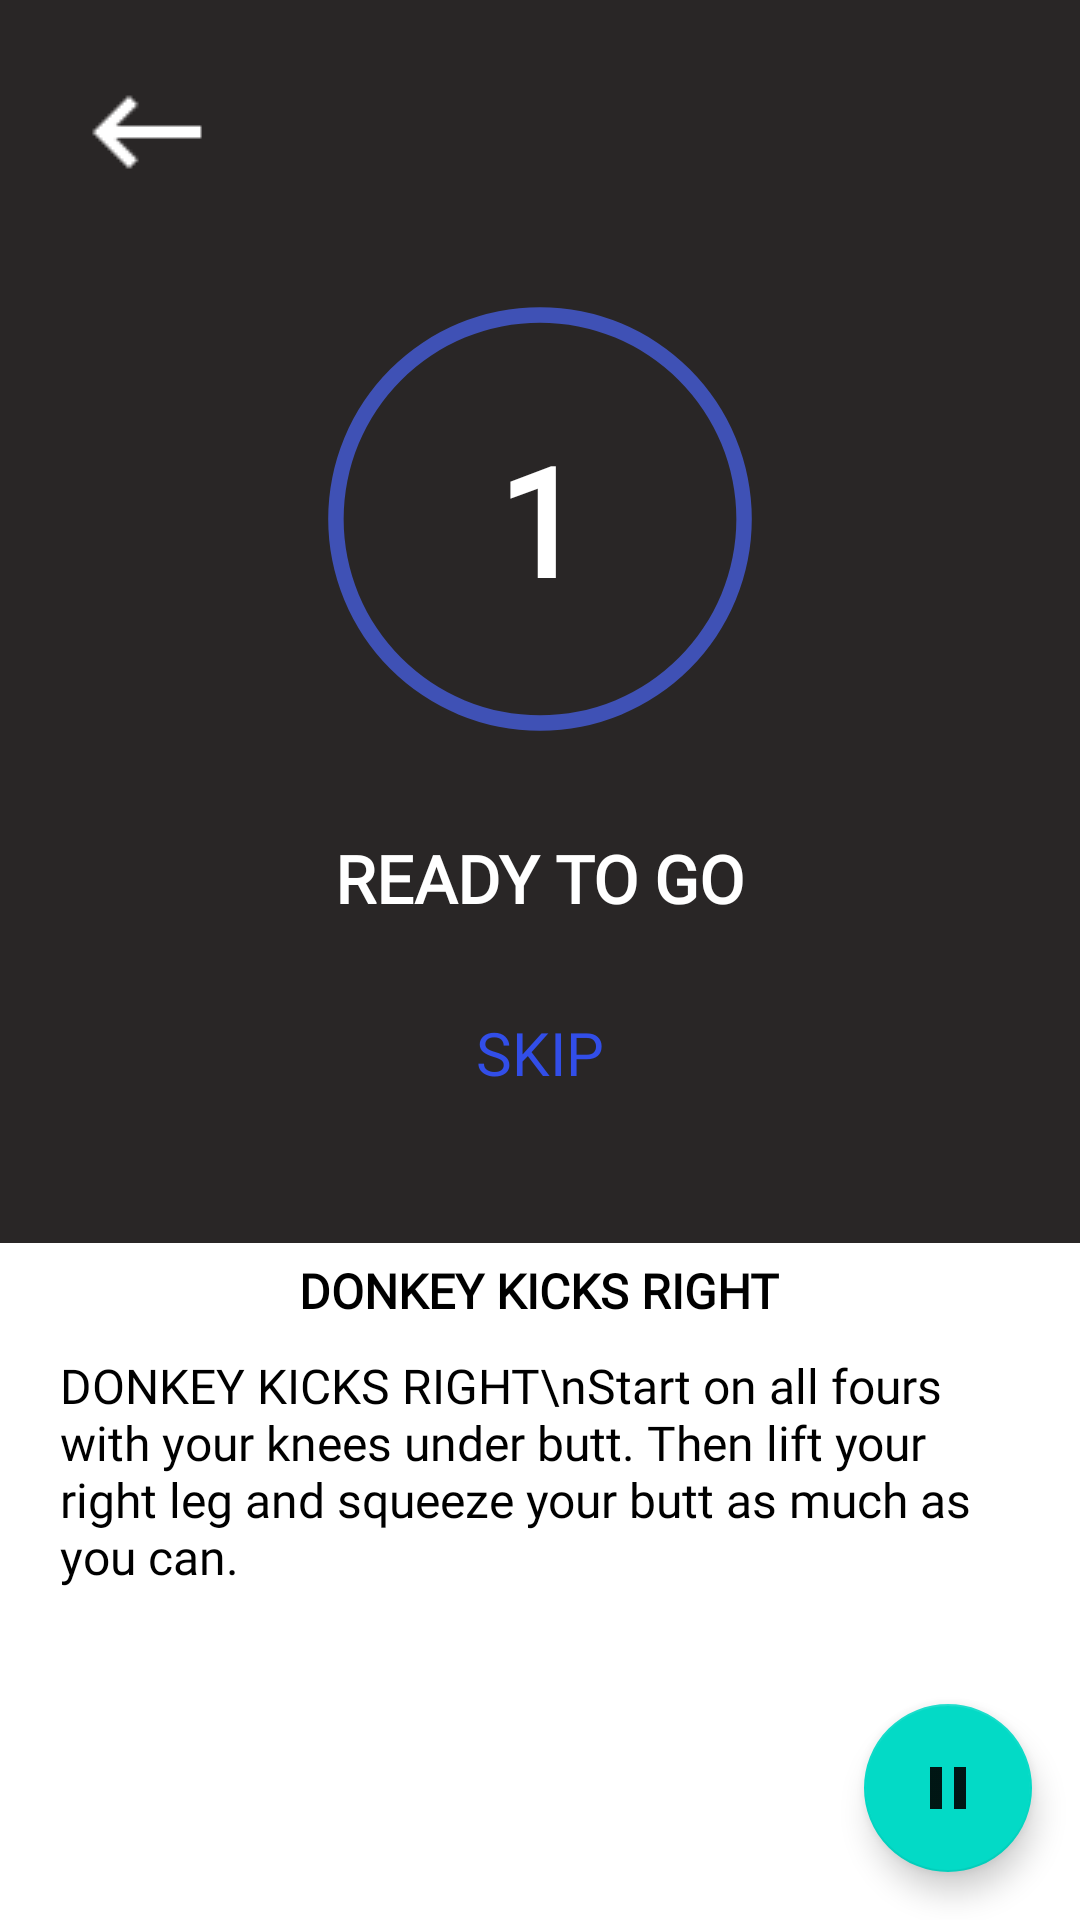

Icons on this 1080px x 1920px Android screen, each with the point to tap as (x,y):
neo keyboard backspace: (147,132)
neo pause: (948,1788)
